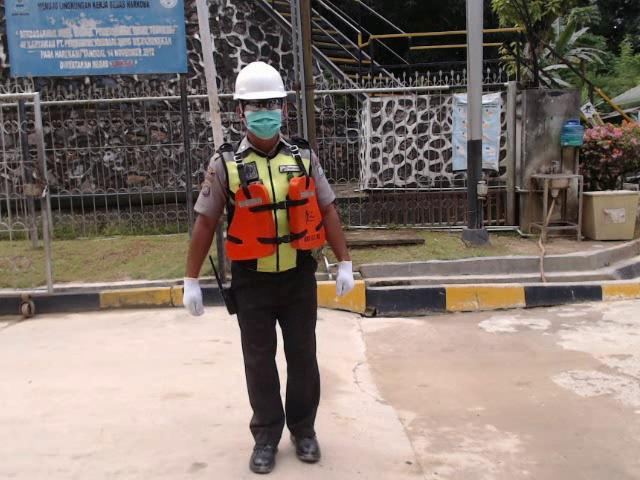glasses: (245, 100, 281, 112)
gloves: (178, 274, 209, 321), (331, 258, 359, 299)
helmet: (232, 59, 286, 99)
mask: (246, 111, 282, 141)
safety-shoes: (247, 438, 283, 475), (287, 432, 324, 464)
vest: (222, 174, 328, 265)
